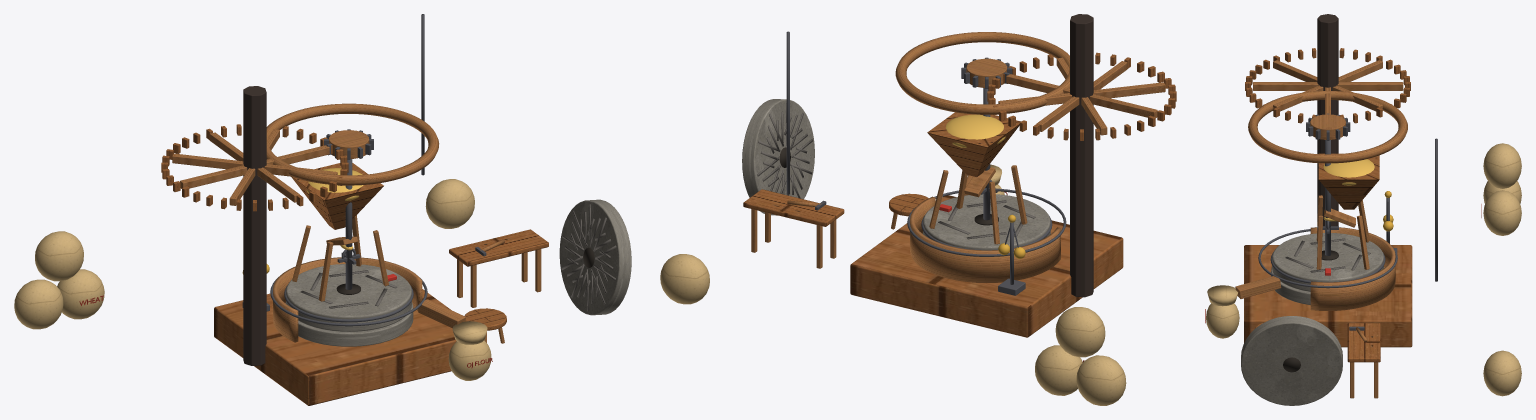
File: millroom.glb
3 renders of one model, left to right at view 1: azimuth 30°, elevation 25°; view 2: azimuth 150°, elevation 25°; view 3: azimuth 270°, elevation 25°, orthographic. The views are drawn at different scales.
Visible parts, largest first — view 1: mr_hurst, mr_upright, mr_spare_stone, mr_runner, mr_spurrim, mr_tun, mr_hopper, mr_wheatsack, mr_wheatsack.002, mr_wheatsack.003, mr_bed, mr_bench (+13 smaller); view 2: mr_hurst, mr_upright, mr_tun, mr_spare_stone, mr_runner, mr_spurrim, mr_hopper, mr_wheatsack.002, mr_wheatsack, mr_wheatsack.003, mr_bench, mr_wheatsack.001 (+10 smaller); view 3: mr_spare_stone, mr_hurst, mr_runner, mr_spurrim, mr_tun, mr_upright, mr_hopper, mr_wheatsack.002, mr_wheatsack.001, mr_wheatsack.003, mr_bench, mr_spurarm.002 (+15 smaller).
Boxes of the visible parts, <box> form: mr_hurst: <box>214,289,466,405</box>; mr_upright: <box>243,86,266,365</box>; mr_spare_stone: <box>559,199,631,315</box>; mr_runner: <box>286,264,411,331</box>; mr_spurrim: <box>266,103,439,185</box>; mr_tun: <box>273,257,422,342</box>; mr_hopper: <box>291,163,383,229</box>; mr_wheatsack: <box>14,279,63,329</box>; mr_wheatsack.002: <box>35,231,83,281</box>; mr_wheatsack.003: <box>425,179,474,228</box>; mr_bed: <box>285,302,413,346</box>; mr_bench: <box>449,229,548,266</box>; mr_hurst: <box>850,195,1123,337</box>; mr_upright: <box>1070,14,1093,297</box>; mr_tun: <box>910,196,1060,282</box>; mr_spare_stone: <box>742,99,814,215</box>; mr_runner: <box>923,194,1050,249</box>; mr_spurrim: <box>895,32,1069,114</box>; mr_hopper: <box>927,112,1020,176</box>; mr_wheatsack.002: <box>1055,307,1105,357</box>; mr_wheatsack: <box>1076,355,1126,405</box>; mr_wheatsack.003: <box>660,254,709,304</box>; mr_bench: <box>743,189,844,226</box>; mr_wheatsack.001: <box>1035,345,1082,395</box>; mr_spare_stone: <box>1241,316,1342,405</box>; mr_hurst: <box>1244,245,1412,347</box>; mr_runner: <box>1272,233,1383,291</box>; mr_spurrim: <box>1248,91,1407,163</box>; mr_tun: <box>1310,227,1395,310</box>; mr_upright: <box>1317,14,1338,226</box>; mr_hopper: <box>1318,153,1379,209</box>; mr_wheatsack.002: <box>1483,143,1521,188</box>; mr_wheatsack.001: <box>1483,190,1521,235</box>; mr_wheatsack.003: <box>1483,350,1521,396</box>; mr_bench: <box>1347,323,1380,362</box>; mr_spurarm.002: <box>1253,82,1403,90</box>.
Size of the model in its own units: 8.09 by 4.61 by 5.26.
Materials: 13 (4 with a texture image).
